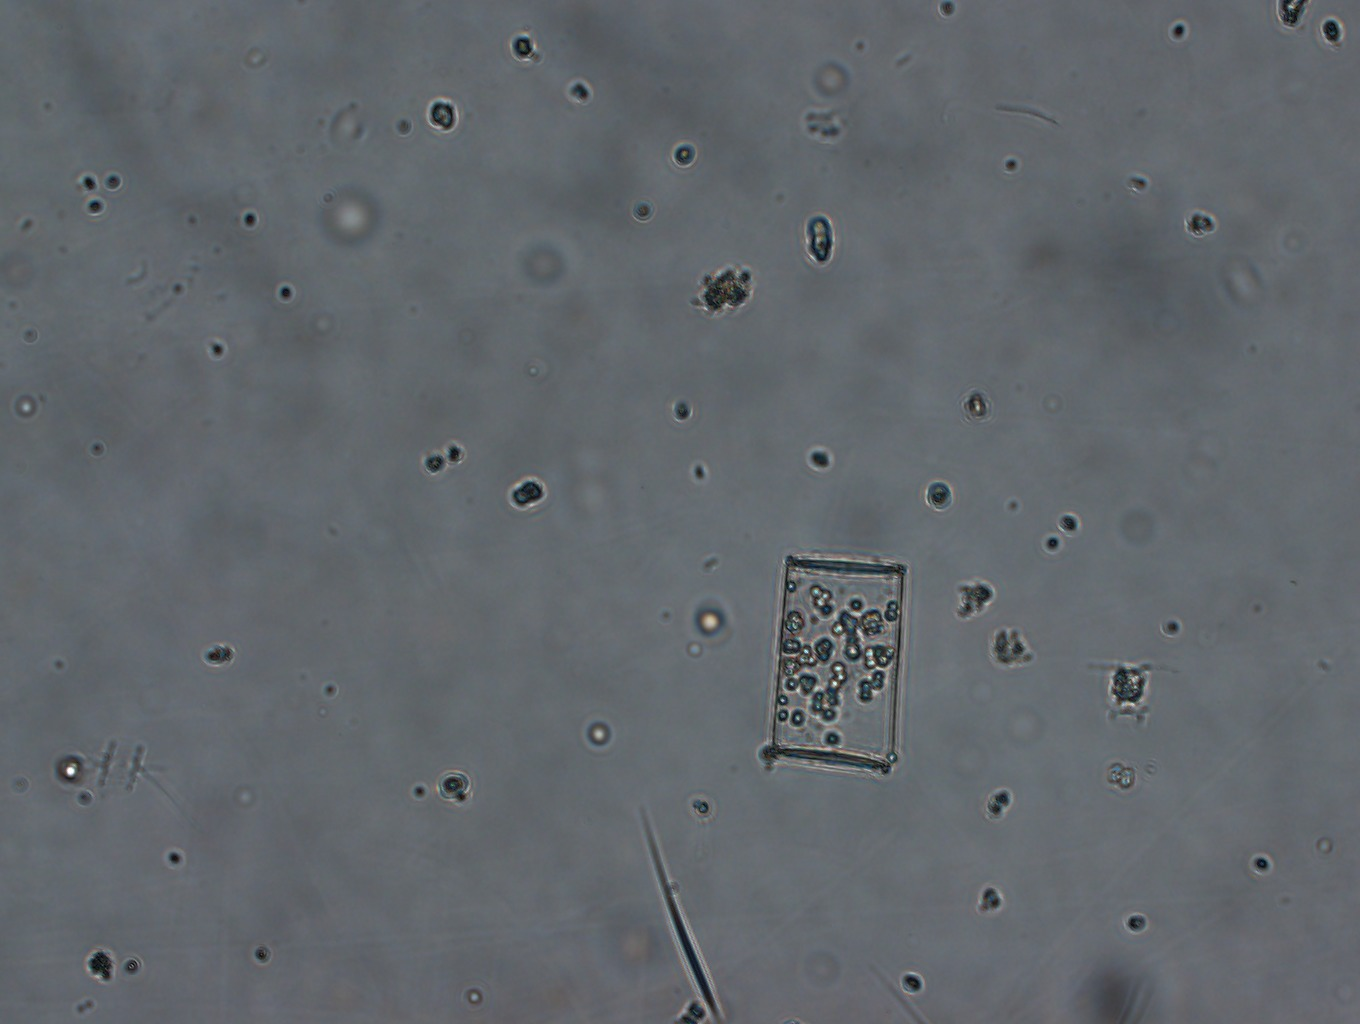guinardia flaccida: (769, 555, 908, 776)
